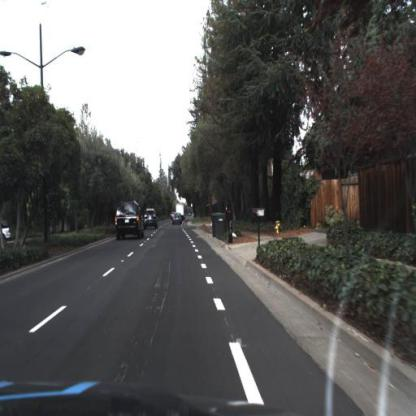car: (113, 201, 147, 245), (143, 208, 161, 233), (175, 202, 186, 218), (172, 213, 183, 227)
truck: (174, 202, 187, 228)
